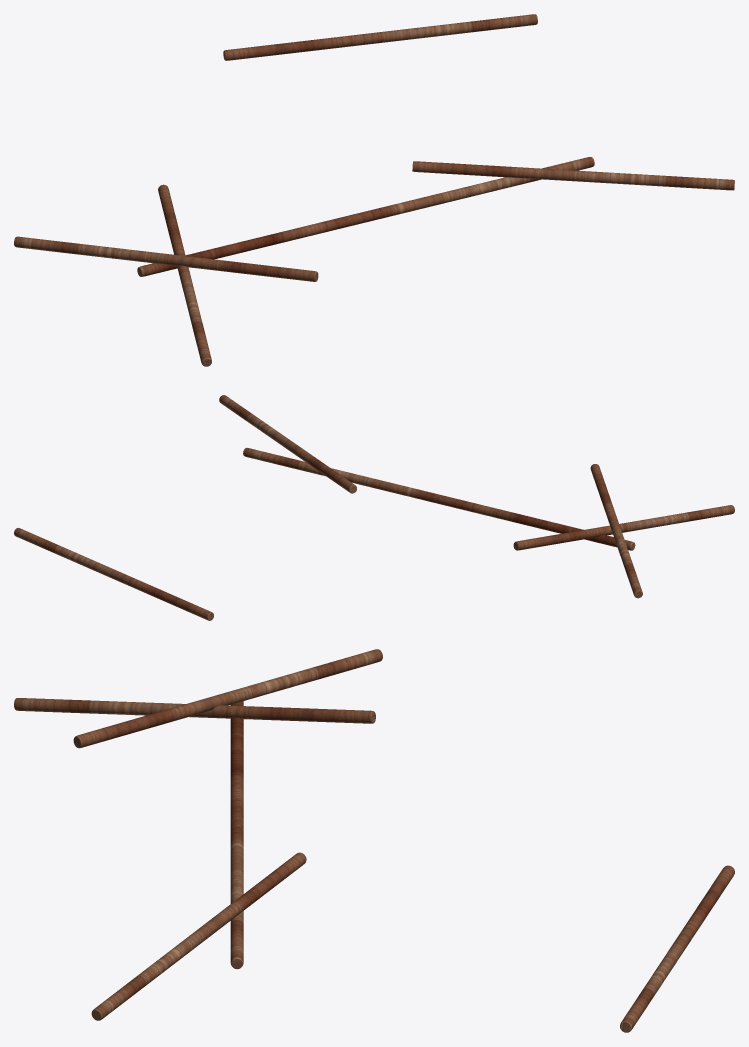
File: brokenDryingRack.glb
3 renders of one model, top to bottom at view 1: azimuth 30°, elevation 25°; view 2: azimuth 150°, elevation 25°; view 3: azimuth 270°, elevation 25°, orthographic. The views are drawn at different scales.
Parts seen in each view (by area): view 1: pCylinder4, pCylinder2, pCylinder5, pCylinder6, pCylinder1; view 2: pCylinder4, pCylinder1, pCylinder5, pCylinder2, pCylinder6; view 3: pCylinder1, pCylinder6, pCylinder2, pCylinder4, pCylinder5.
Boxes of the visible parts, x1,y1,x2,y2 form: pCylinder4: (137,157,594,276); pCylinder2: (412,161,734,190); pCylinder5: (223,14,537,60); pCylinder6: (14,236,318,281); pCylinder1: (158,184,211,366); pCylinder4: (243,447,635,550); pCylinder1: (513,505,734,550); pCylinder5: (14,528,213,620); pCylinder2: (219,395,356,493); pCylinder6: (590,464,642,598); pCylinder1: (14,698,375,723); pCylinder6: (73,649,382,748); pCylinder2: (91,852,306,1020); pCylinder4: (230,701,243,969); pCylinder5: (620,865,734,1032).
Size of the model in its own units: 18.31 by 1.38 by 15.09.
1 material, 1 textured.
